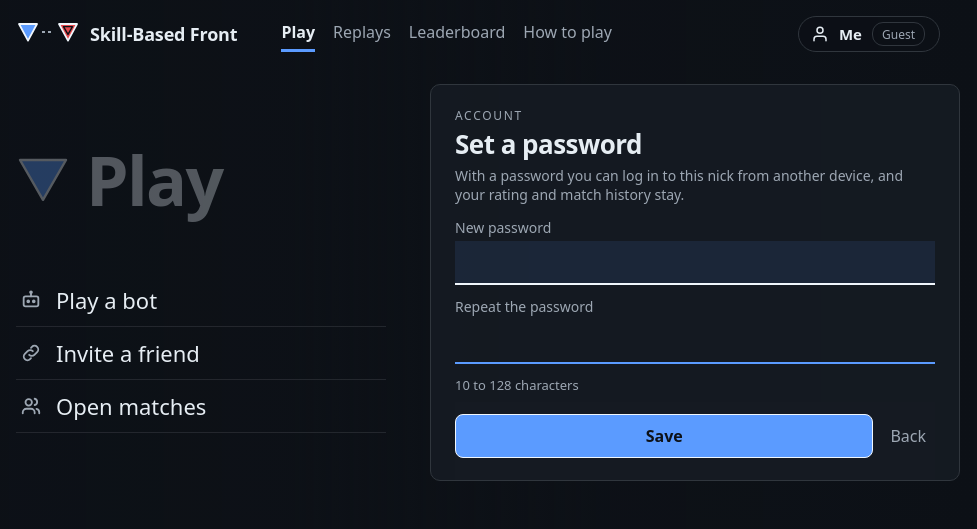
PasswordScreen (#374) › does not ask the server for an unequal repeat
In the password field labelled "New password": (695, 263) [455,241,935,285], type "a long password"
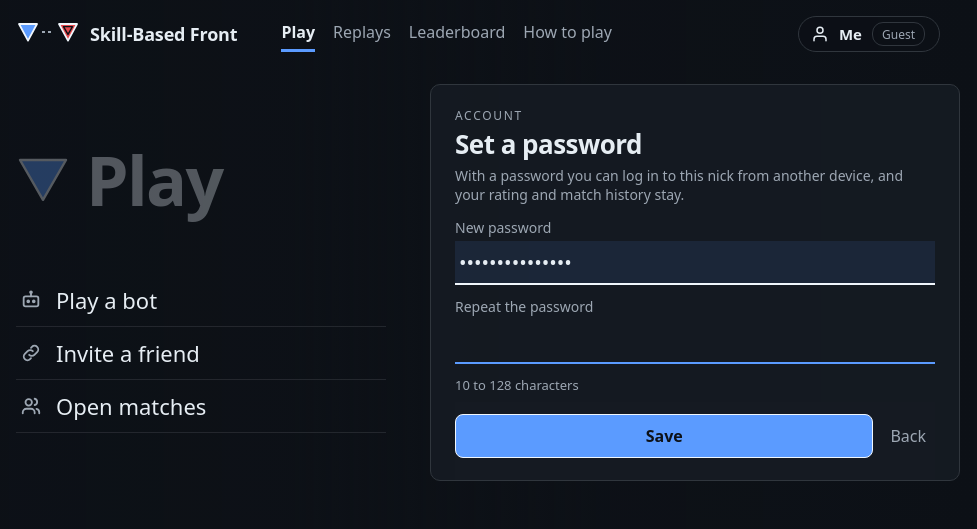
In the password field labelled "Repeat the password": (695, 342) [455,320,935,364], type "another long one"
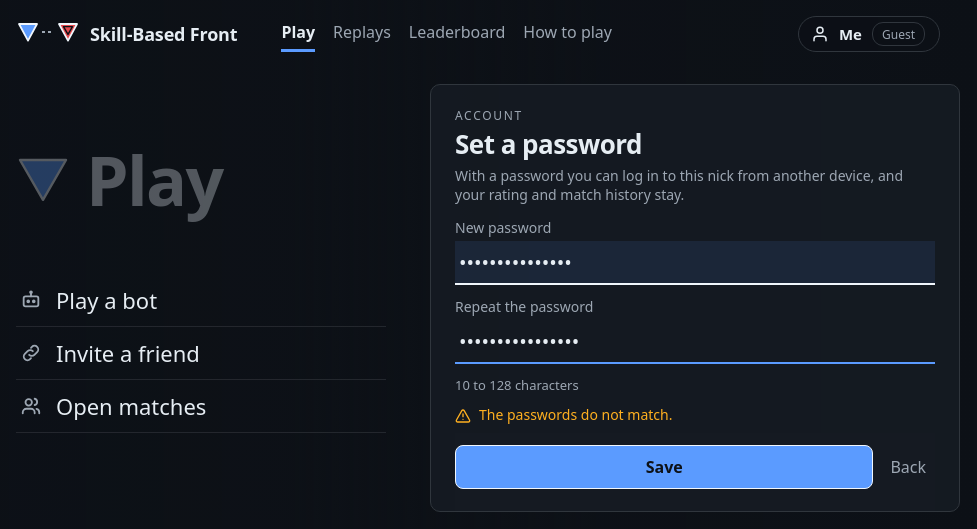
Check: the message "The passwords do not match." is shown, box [455,405,672,424]
